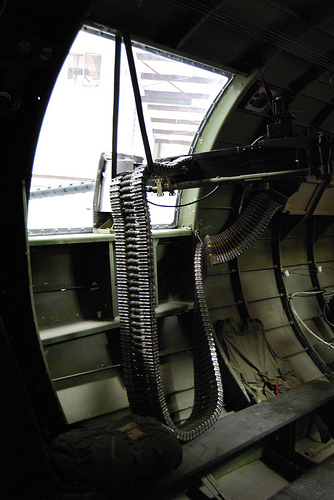rifle: (29, 125, 297, 289)
